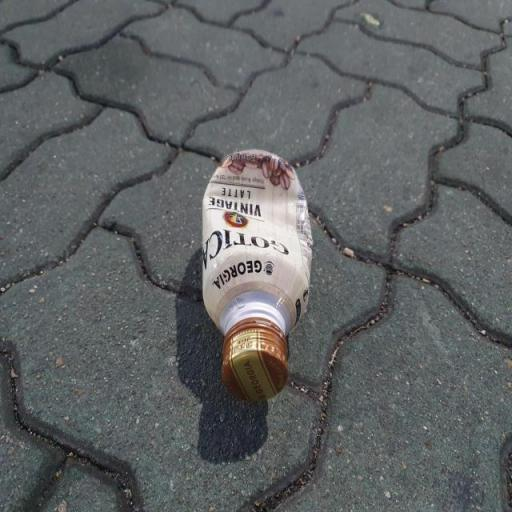metal: (189, 128, 325, 408)
